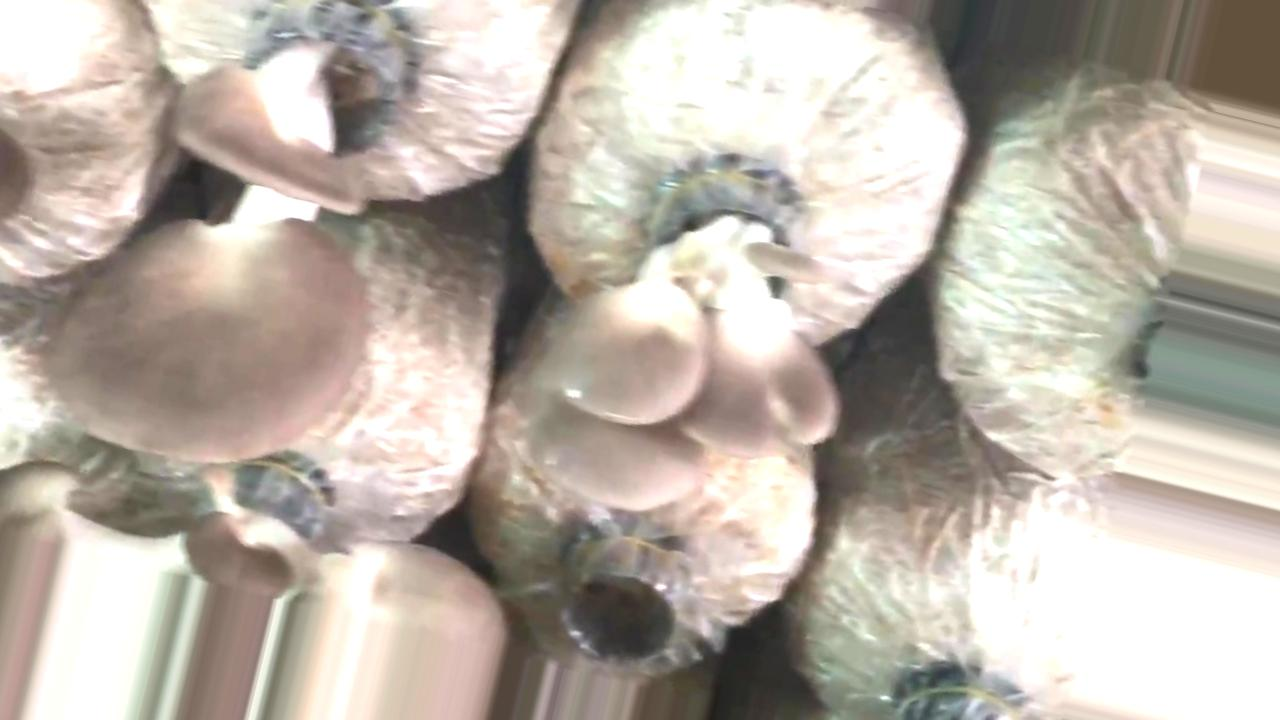nam: (50, 1, 430, 470), (1, 465, 509, 720), (510, 157, 841, 514)
